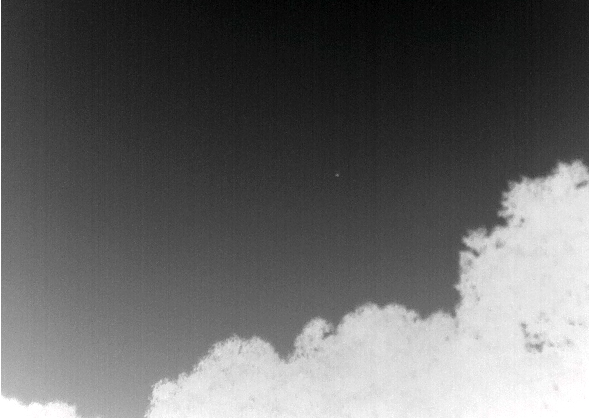dim target: (333, 172, 341, 178)
